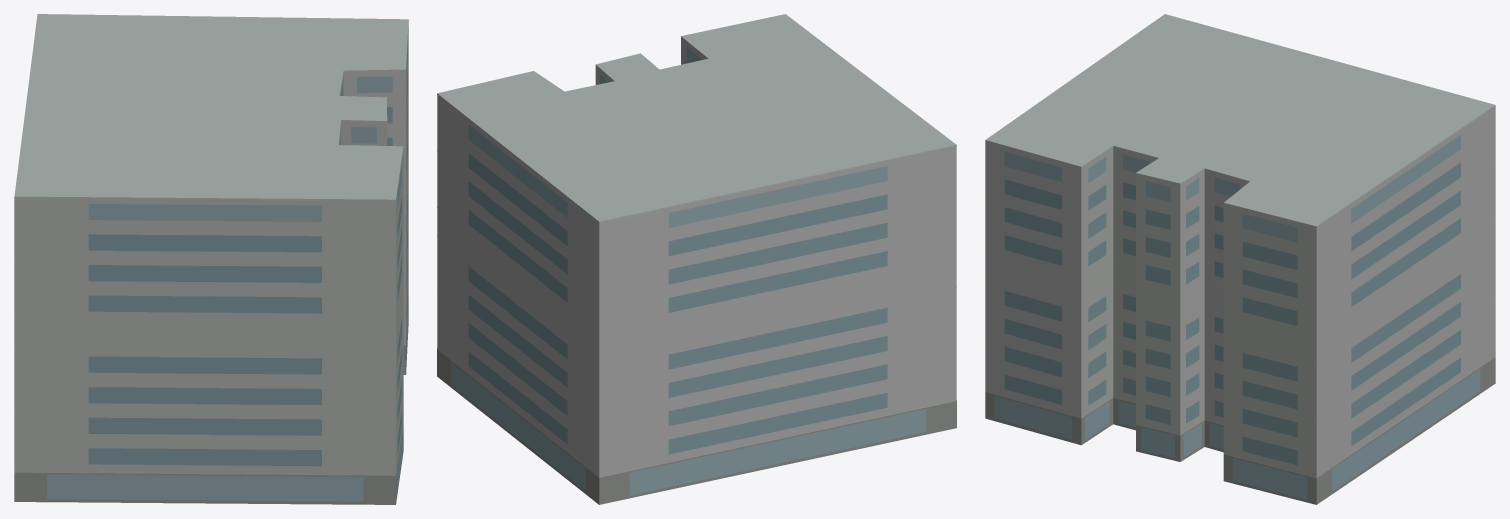
Rendered from survey-upis-32730438.glb.
3 views of the same model, side by side, from view 1: azimuth 30°, elevation 25°; view 2: azimuth 150°, elevation 25°; view 3: azimuth 270°, elevation 25° (orthographic). The views are drawn at different scales.
Visible parts, largest first — view 1: survey-upis-32730438.tmp; view 2: survey-upis-32730438.tmp; view 3: survey-upis-32730438.tmp.
Boxes of the visible parts, x1,y1,x2,y2 form: survey-upis-32730438.tmp: (14, 14, 408, 504); survey-upis-32730438.tmp: (437, 14, 956, 504); survey-upis-32730438.tmp: (985, 14, 1495, 504).
Size of the model in its own units: 74.91 by 45.8 by 76.06.
